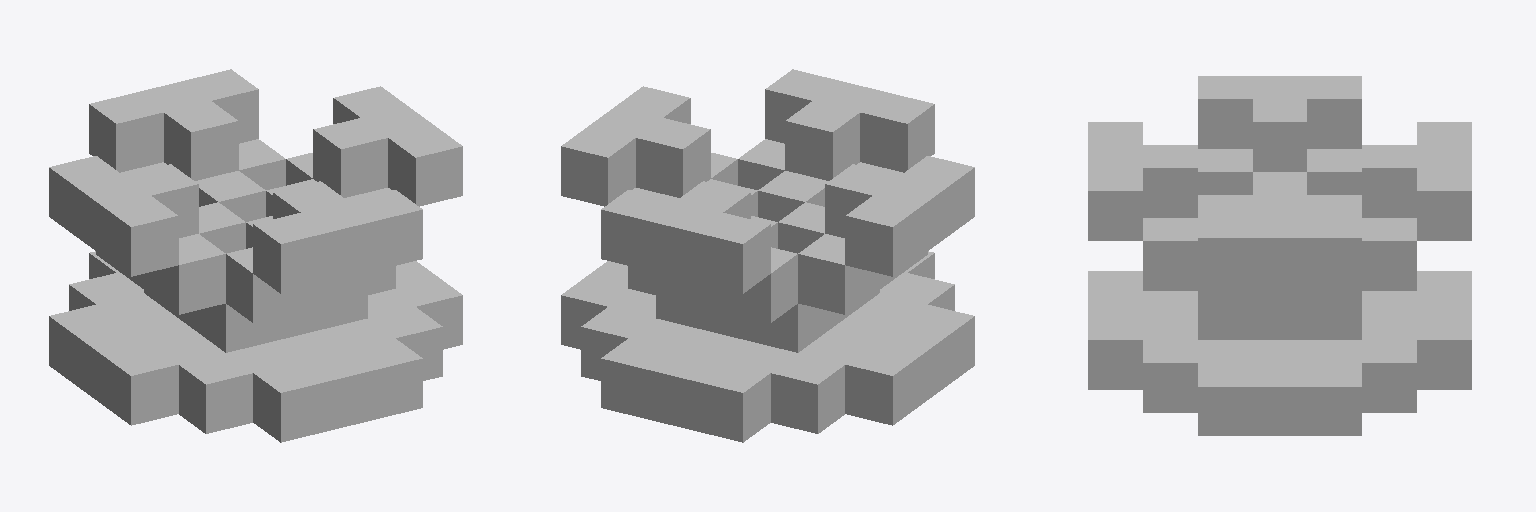
The model's file is GrassPatch.obj.
3 views of the same model, side by side, from view 1: azimuth 30°, elevation 25°; view 2: azimuth 150°, elevation 25°; view 3: azimuth 270°, elevation 25° (orthographic).
Parts seen in each view (by area): view 1: GrassPatch; view 2: GrassPatch; view 3: GrassPatch.
Boxes of the visible parts, box(x1,y1,x2,y2) form: GrassPatch: box(49, 69, 462, 442); GrassPatch: box(561, 69, 974, 442); GrassPatch: box(1088, 76, 1471, 435).
Size of the model in its own units: 7 by 4 by 7.